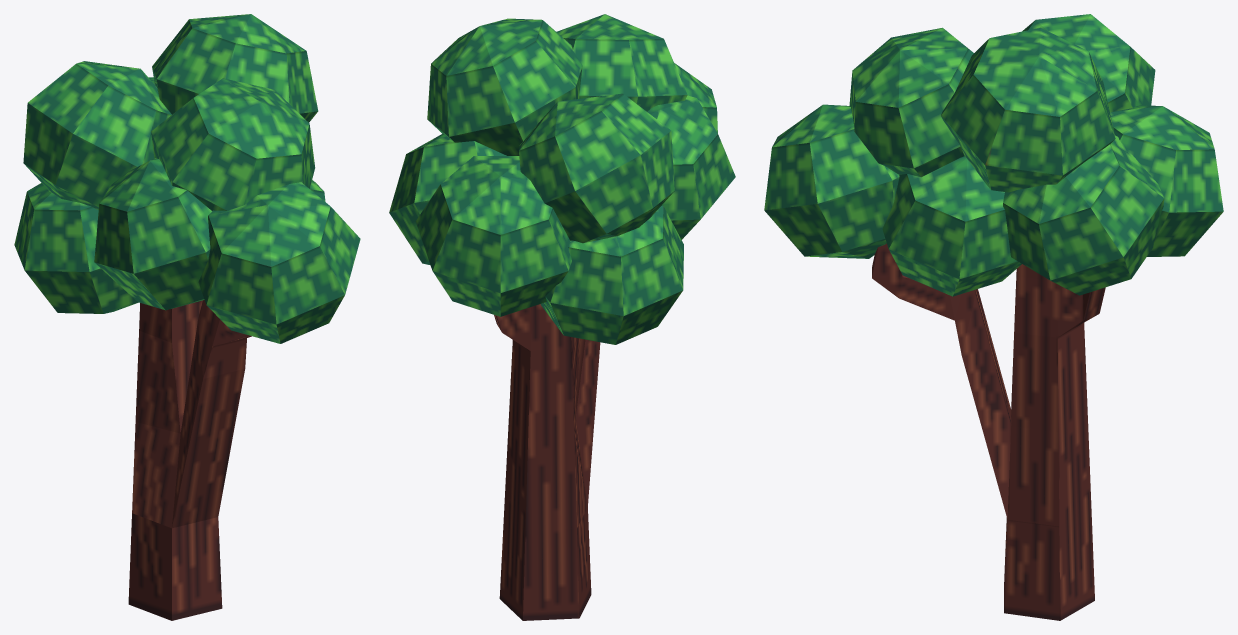
File: Tree.fbx
3 views of the same model, side by side, from view 1: azimuth 30°, elevation 25°; view 2: azimuth 150°, elevation 25°; view 3: azimuth 270°, elevation 25° (orthographic). The views are drawn at different scales.
Visible parts, largest first — view 1: cylinder, sphere_5, sphere_6, sphere_7, sphere_4, sphere_8, sphere_2; view 2: cylinder, sphere, sphere_7, sphere_8, sphere_2, sphere_6, sphere_4, sphere_1, sphere_5; view 3: cylinder, sphere_8, sphere_1, sphere_5, sphere_3, sphere_6, sphere, sphere_7.
Boxes of the visible parts, <box> form: cylinder: <box>128,300,251,620</box>; sphere_5: <box>198,182,360,343</box>; sphere_6: <box>151,78,315,210</box>; sphere_7: <box>23,61,171,209</box>; sphere_4: <box>94,158,211,310</box>; sphere_8: <box>152,14,318,122</box>; sphere_2: <box>14,183,138,313</box>; cylinder: <box>494,304,600,620</box>; sphere: <box>415,156,571,316</box>; sphere_7: <box>519,93,674,243</box>; sphere_8: <box>427,18,582,155</box>; sphere_2: <box>540,205,683,344</box>; sphere_6: <box>556,14,687,111</box>; sphere_4: <box>647,95,735,239</box>; sphere_1: <box>389,133,506,264</box>; sphere_5: <box>674,63,717,133</box>; cylinder: <box>872,243,1105,620</box>; sphere_8: <box>941,27,1115,192</box>; sphere_1: <box>1003,135,1164,295</box>; sphere_5: <box>764,104,899,258</box>; sphere_3: <box>882,156,1021,296</box>; sphere_6: <box>849,27,973,177</box>; sphere: <box>1110,105,1223,256</box>; sphere_7: <box>1022,14,1155,112</box>.
Bounding box in the file's own units: 386 × 785 × 563.
1 material, 1 textured.
